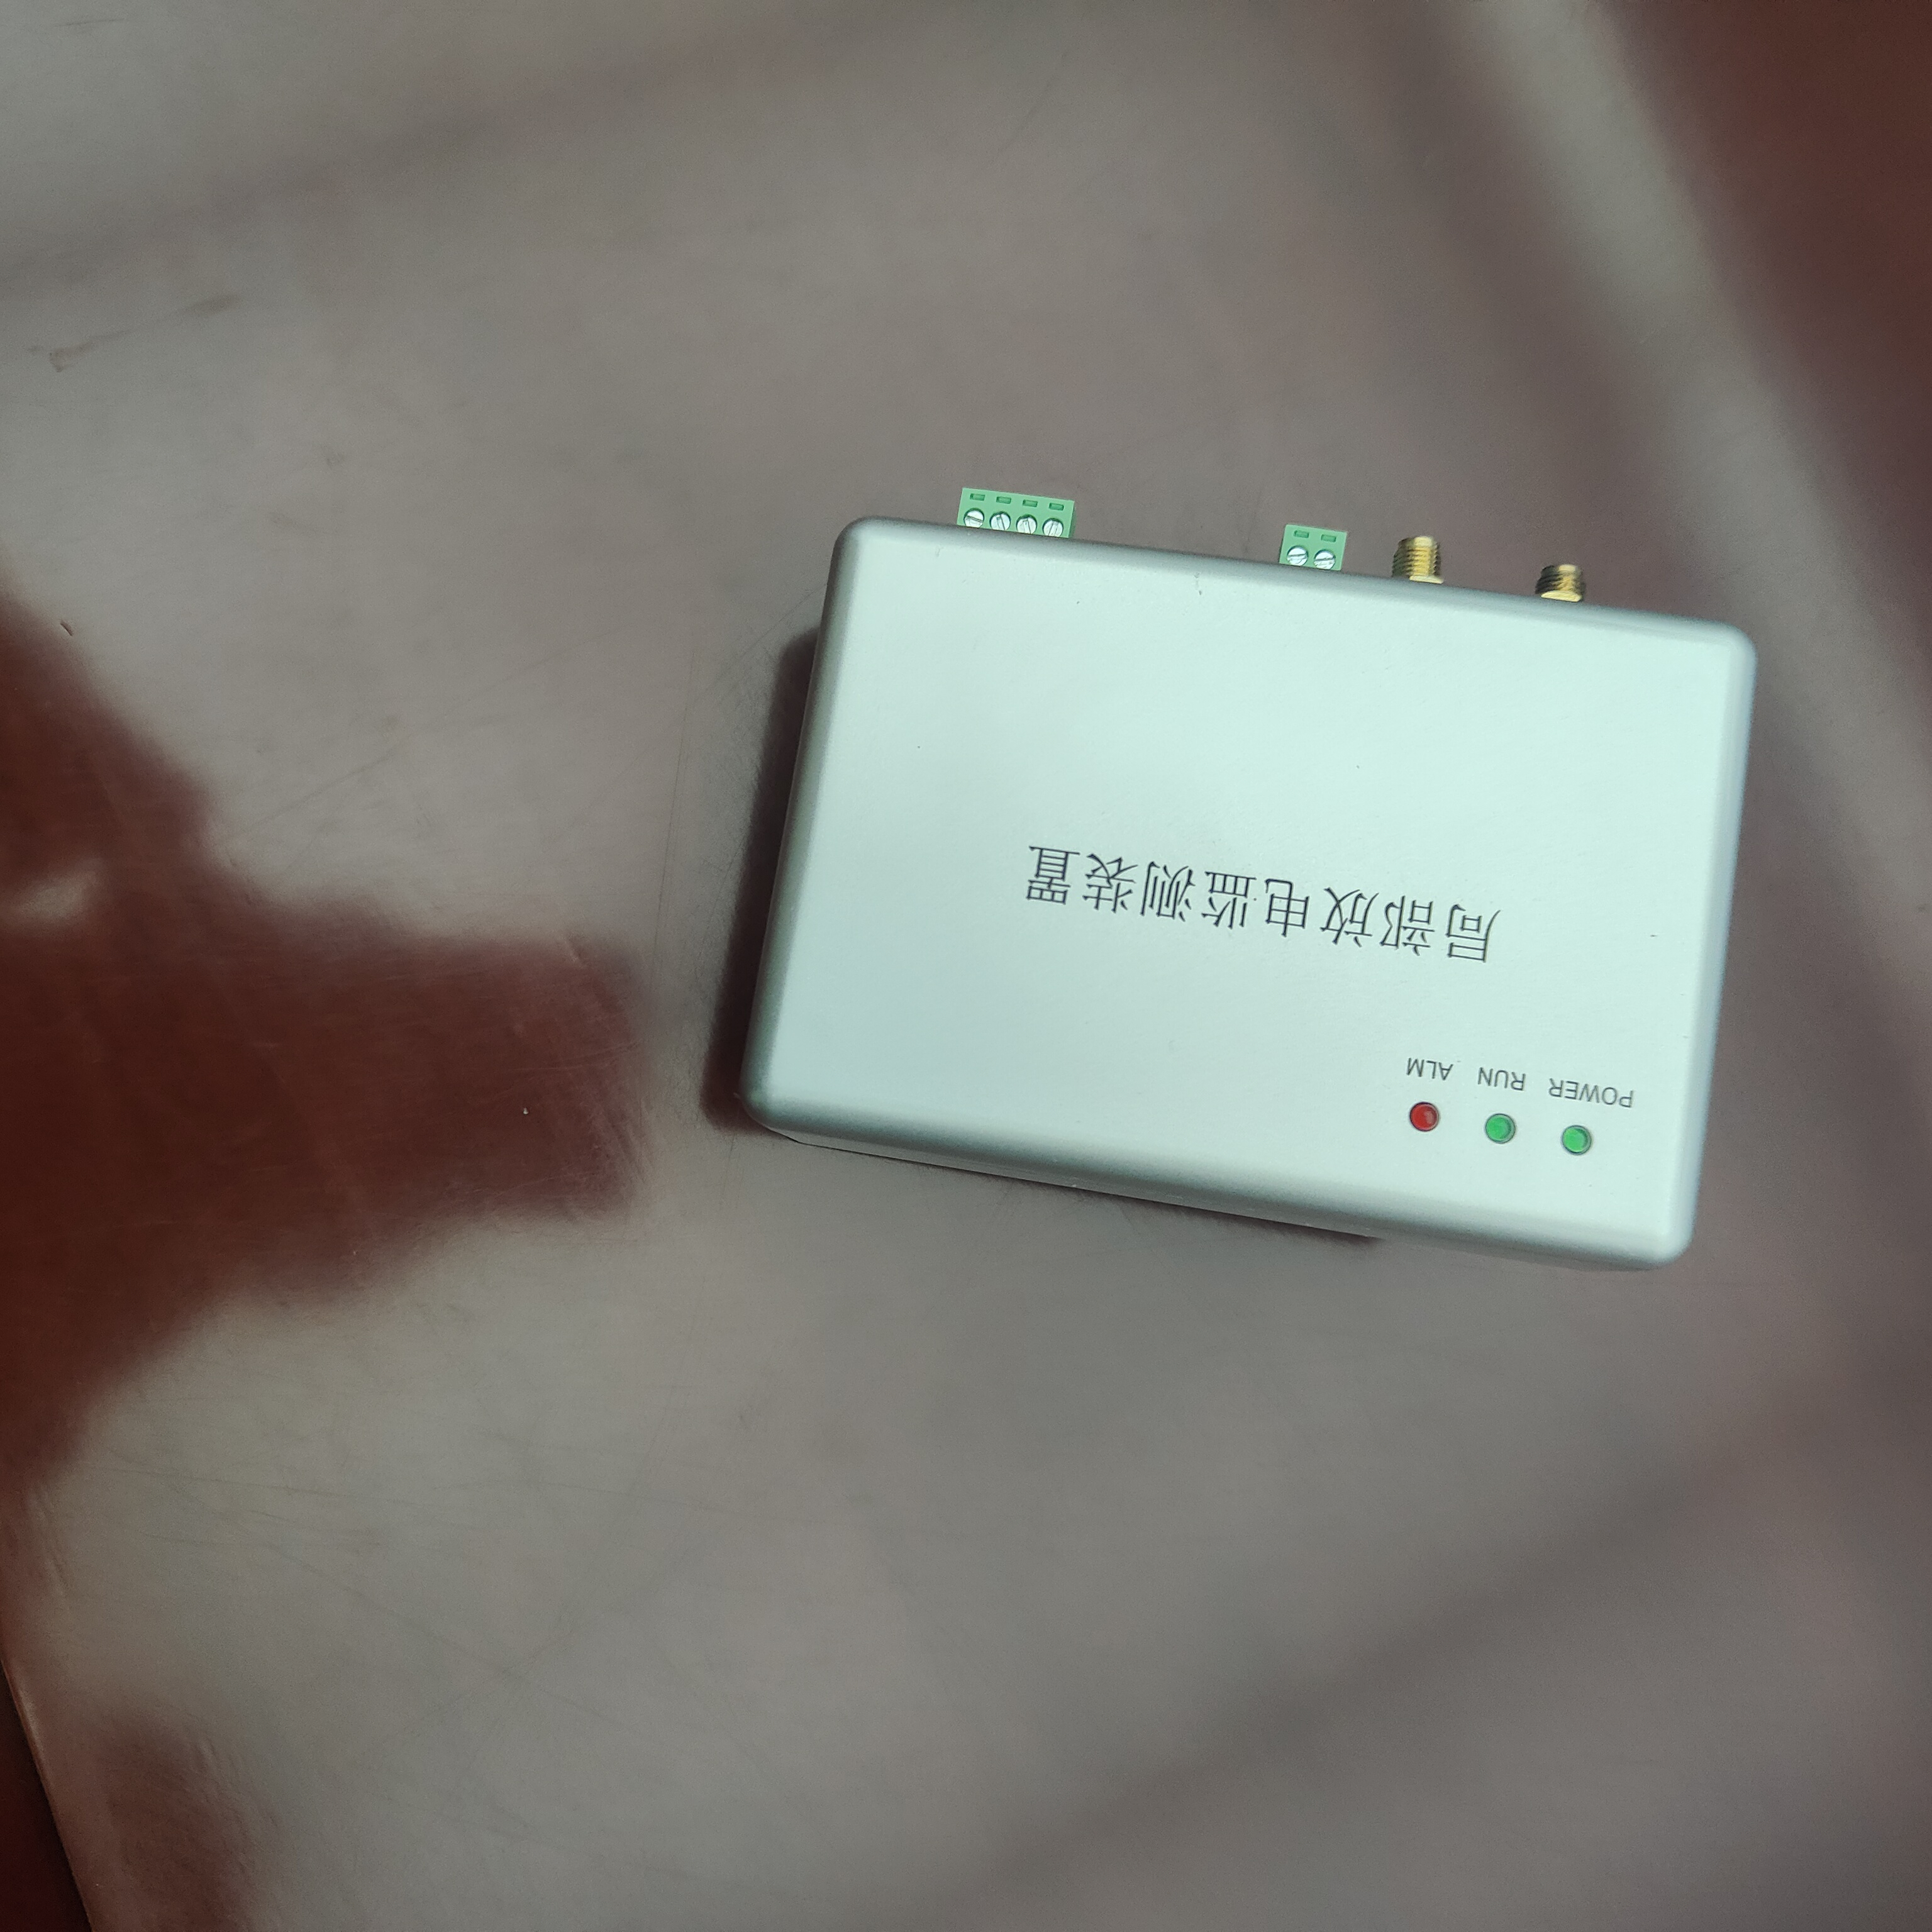jbfdjc: (683, 439, 1819, 1300)
